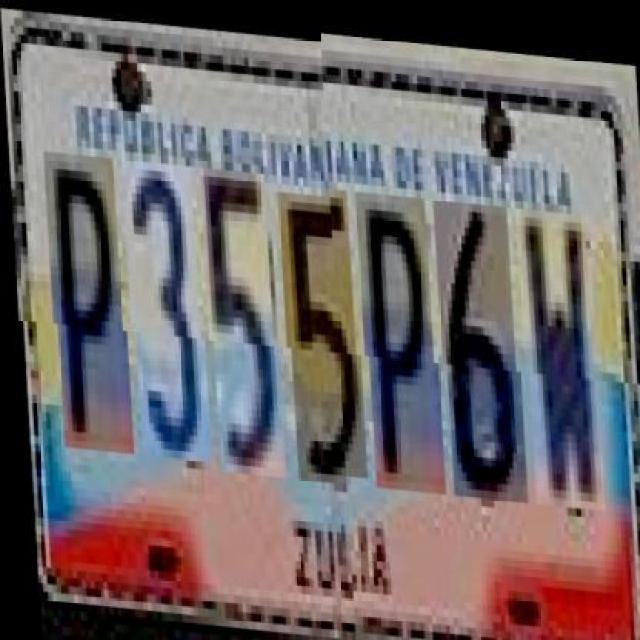3: (124, 157, 207, 458)
5: (201, 163, 281, 472), (281, 186, 362, 479)
6: (435, 199, 523, 501)
p: (46, 151, 129, 452), (358, 193, 440, 495)
w: (518, 205, 600, 507)
